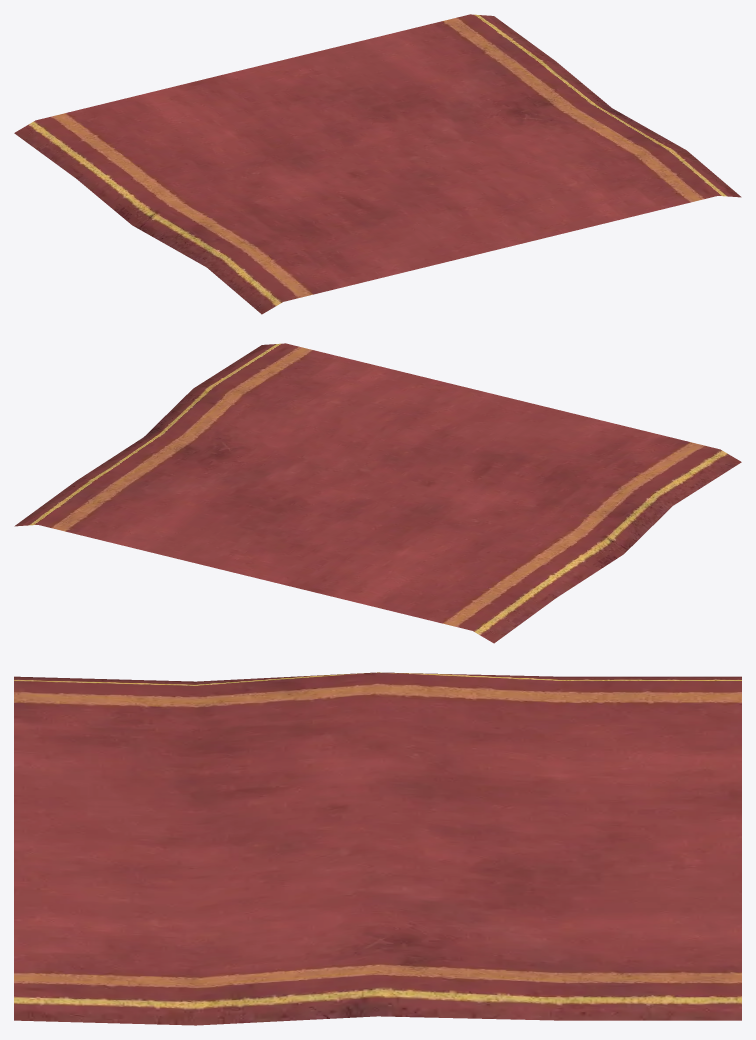
3 renders of one model, top to bottom at view 1: azimuth 30°, elevation 25°; view 2: azimuth 150°, elevation 25°; view 3: azimuth 270°, elevation 25°, orthographic. The views are drawn at different scales.
Parts seen in each view (by area): view 1: SM_DR_Rug_A_02_01_LOD0; view 2: SM_DR_Rug_A_02_01_LOD0; view 3: SM_DR_Rug_A_02_01_LOD0.
Boxes of the visible parts, x1,y1,x2,y2 form: SM_DR_Rug_A_02_01_LOD0: [14, 14, 741, 314]; SM_DR_Rug_A_02_01_LOD0: [14, 343, 741, 643]; SM_DR_Rug_A_02_01_LOD0: [14, 672, 741, 1025].
Bounding box in the file's own units: 2.3 × 0.0455 × 2.
1 material, 1 textured.
